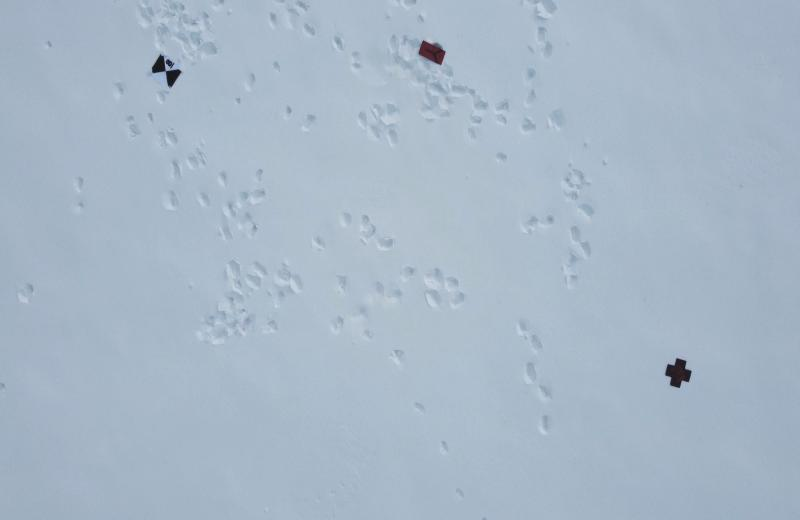Cross: (665, 354, 694, 391)
Rectangle: (416, 38, 449, 68)
